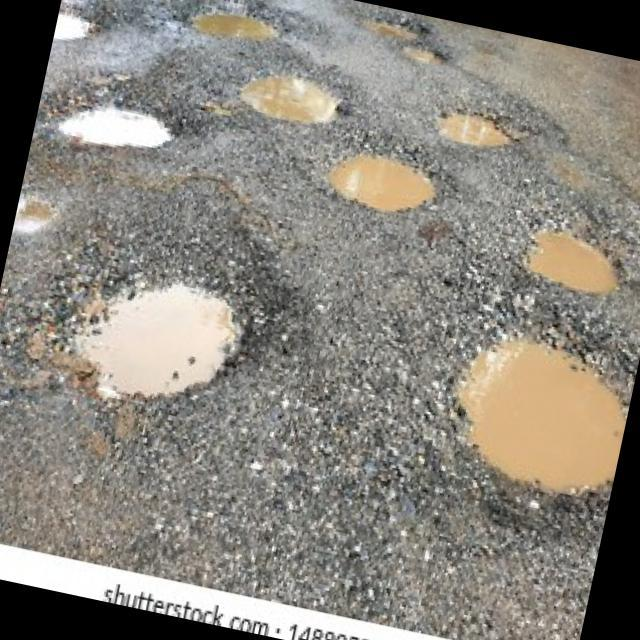Pothole: (422, 306, 640, 510), (49, 242, 262, 430), (317, 134, 449, 222), (513, 214, 636, 306), (50, 85, 184, 164), (230, 60, 348, 133), (428, 99, 525, 159), (178, 0, 286, 52), (10, 183, 67, 248), (350, 5, 429, 48), (50, 0, 100, 55), (398, 38, 450, 70)
